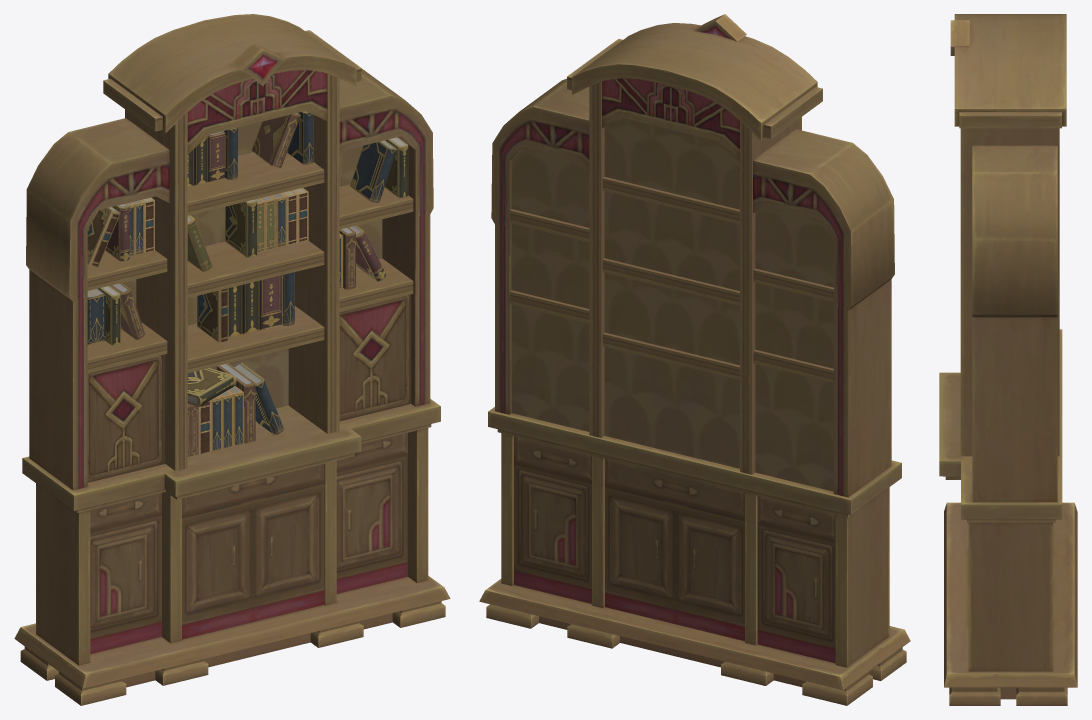
File: Homeworld_Interior_Fd_Cabinet_Prop_DyzShugui_01_Vo.fbx
3 renders of one model, left to right at view 1: azimuth 30°, elevation 25°; view 2: azimuth 150°, elevation 25°; view 3: azimuth 270°, elevation 25°, orthographic. The views are drawn at different scales.
Visible parts, largest first — view 1: Indoor_Fd_Prop_Dyz_Cabinet_01_Vo; view 2: Indoor_Fd_Prop_Dyz_Cabinet_01_Vo; view 3: Indoor_Fd_Prop_Dyz_Cabinet_01_Vo.
Part boxes in pixels (bbox=[...]): Indoor_Fd_Prop_Dyz_Cabinet_01_Vo: bbox=[14, 14, 450, 705]; Indoor_Fd_Prop_Dyz_Cabinet_01_Vo: bbox=[479, 14, 910, 705]; Indoor_Fd_Prop_Dyz_Cabinet_01_Vo: bbox=[939, 14, 1077, 705].
Size of the model in its own units: 2.25 by 3.57 by 0.7463.
